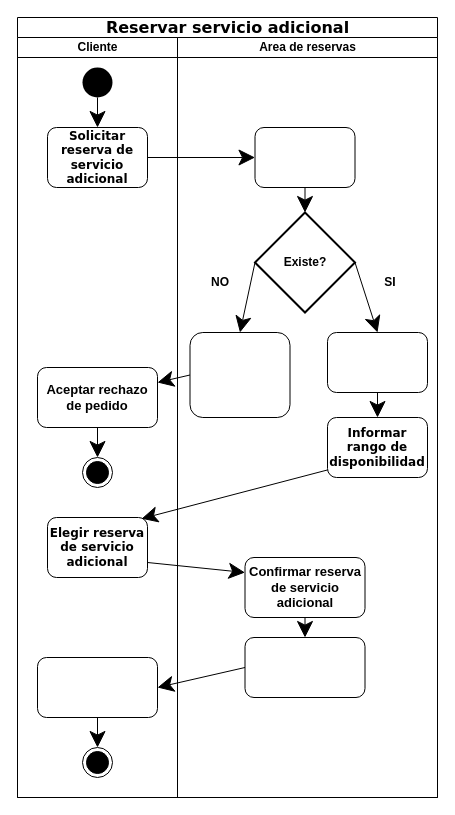
Some shapes in this 455 by 815 pixel diagram are drawn without their labels. Each missing label, with the centre of its shape:
"Aceptar reserva de servicio adicional" belongs at [97,687].
"Informar confirmación de reserva de servicio adicional" belongs at [304,667].
"Rechazar pedido de reserva de servicio adicional" belongs at [239,375].
"Verificar disponibilidad" belongs at [377,362].
"Verificar existencia reserva" belongs at [304,157].
